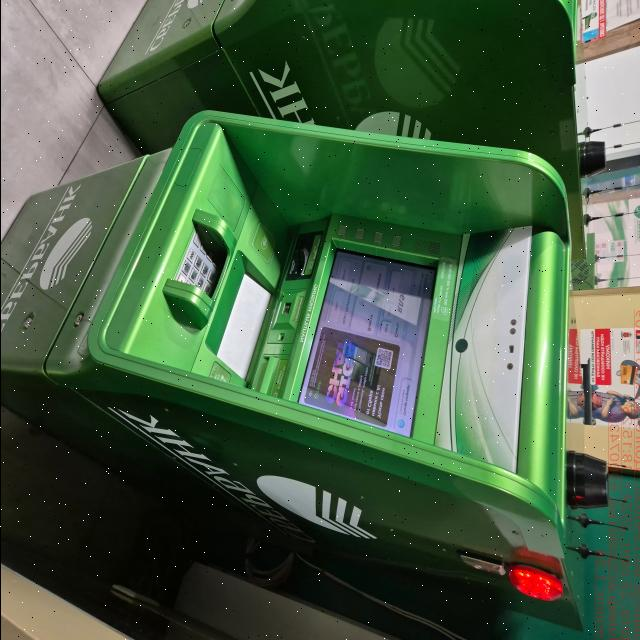bank: (0, 128, 586, 634), (99, 0, 584, 239)
